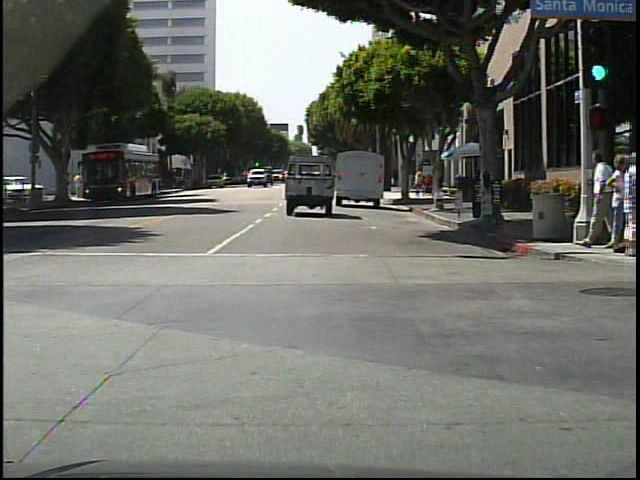person: (583, 149, 614, 251), (606, 156, 628, 254), (618, 152, 639, 253), (75, 171, 85, 200), (414, 171, 424, 198), (65, 175, 75, 201), (411, 169, 418, 198)
